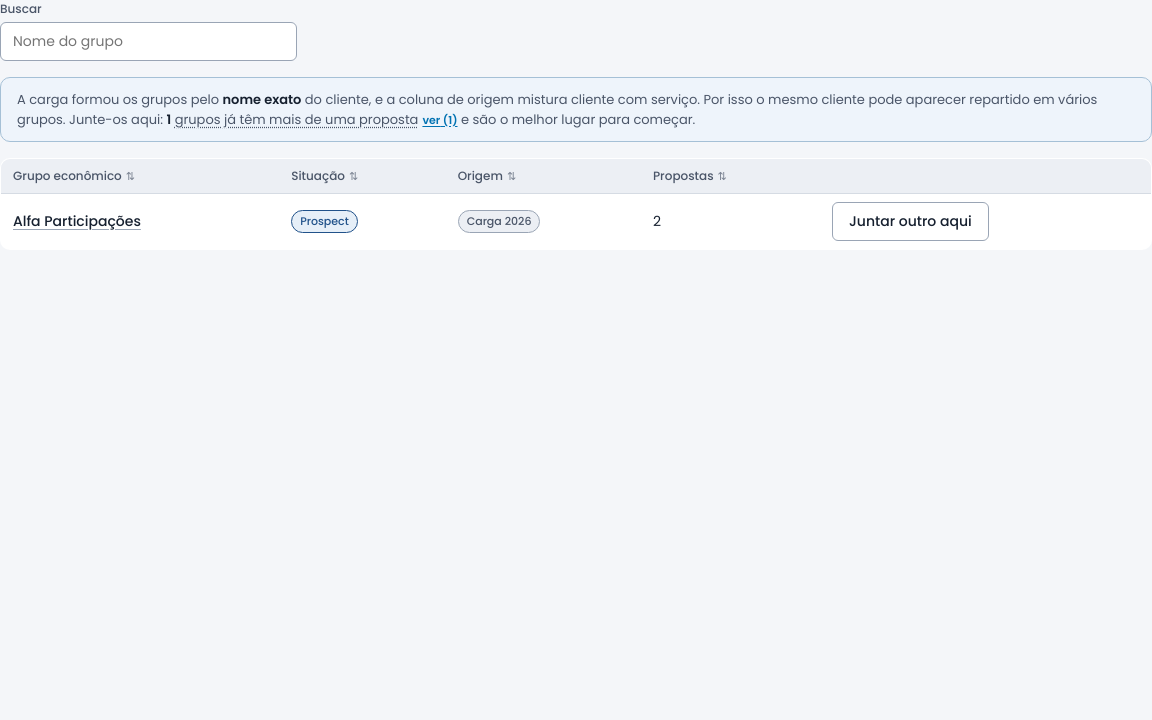
Test case: Grupos › mostra o erro da API sem travar a tela
Click the button "Alfa Participações": click(77, 222) [13, 211, 141, 232]
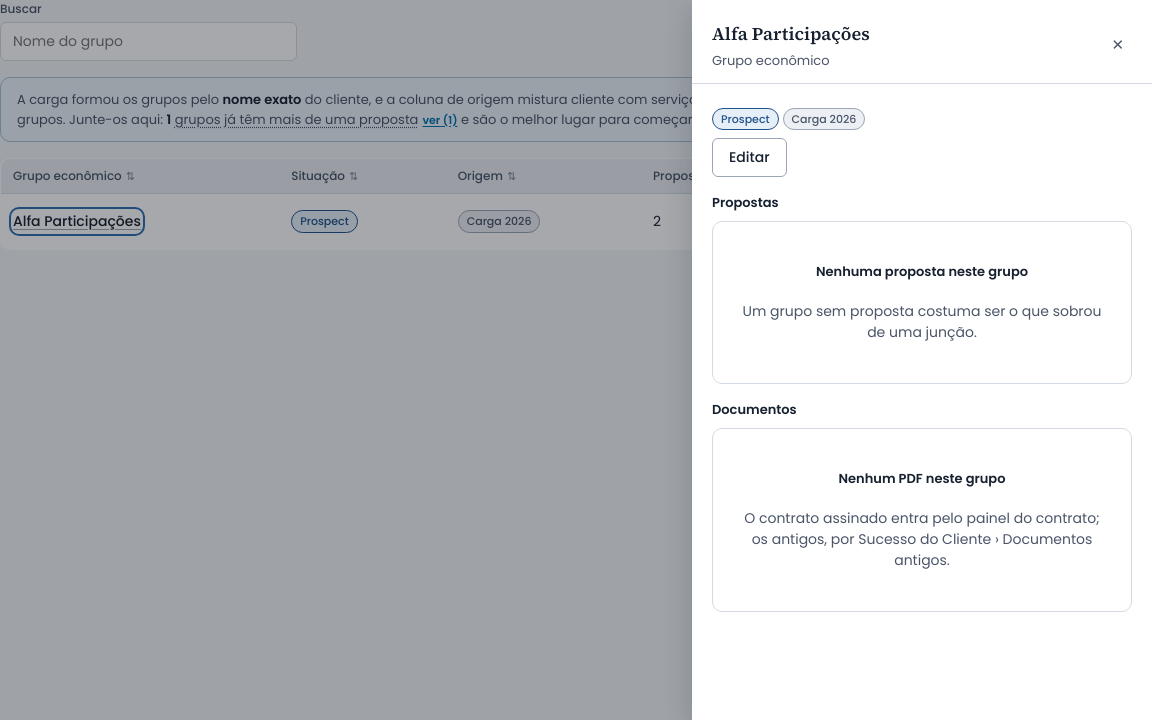
Click the button "Editar": click(749, 158) [712, 138, 787, 177]
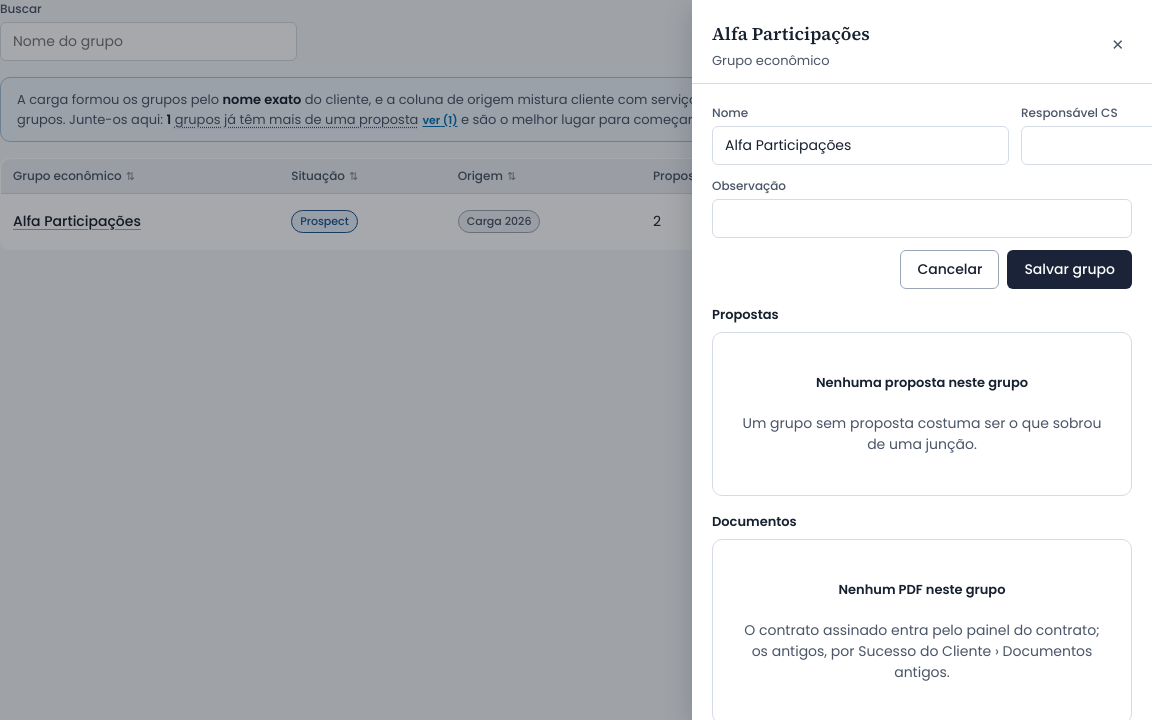
Click the button "Salvar grupo": click(1070, 269) [1007, 250, 1132, 288]
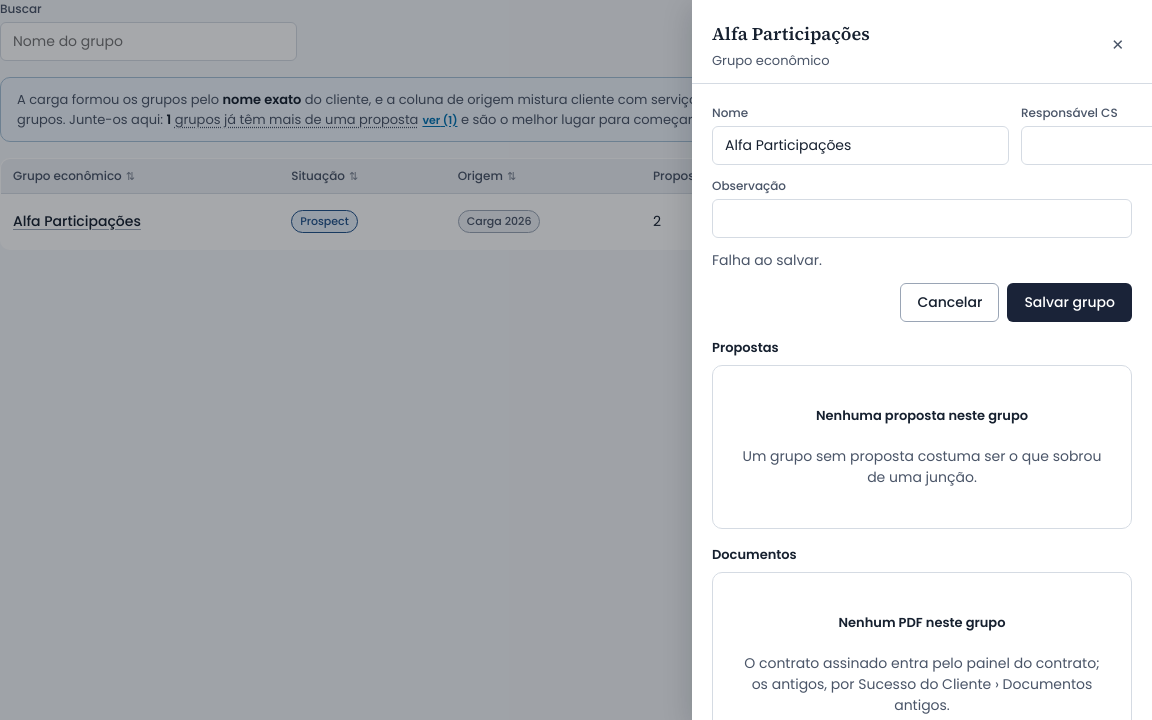
Now the text "Falha ao salvar." is shown, box [712, 250, 822, 270]
